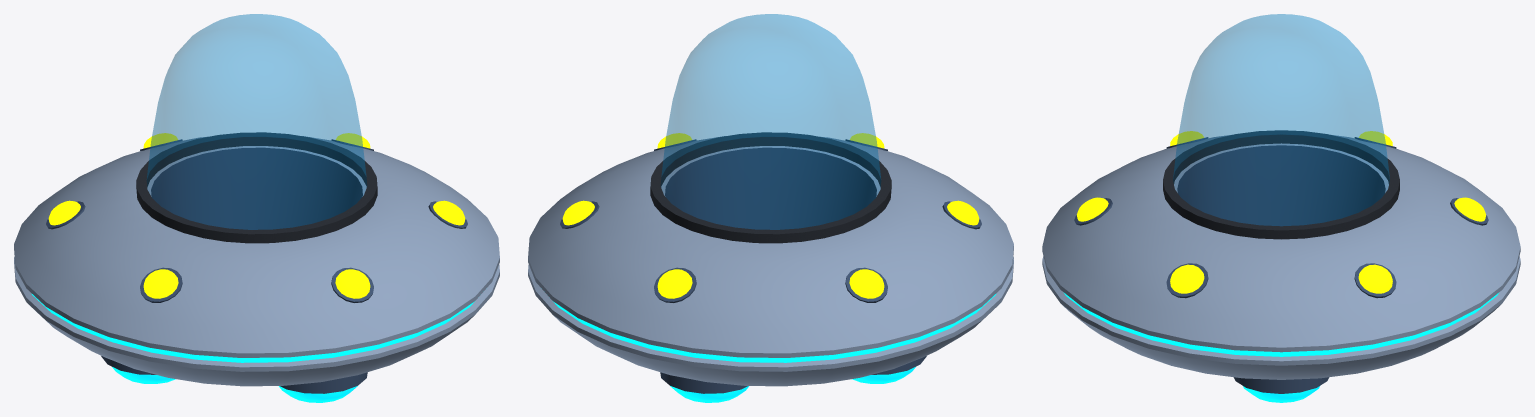
Rendered from ufo_low_ploy_pbr_textured_game_ready.glb.
The picture shows the model from 3 angles, left to right: view 1: azimuth 30°, elevation 25°; view 2: azimuth 150°, elevation 25°; view 3: azimuth 270°, elevation 25°; orthographic projection.
Parts seen in each view (by area): view 1: Main Body, Cockpit Glass, Cab Seal Ring, Small Lamp, Circular Light, Small Lamp Shell, Engine Shell, Engine Core; view 2: Main Body, Cockpit Glass, Cab Seal Ring, Small Lamp, Circular Light, Small Lamp Shell, Engine Shell, Engine Core; view 3: Main Body, Cockpit Glass, Cab Seal Ring, Small Lamp, Circular Light, Small Lamp Shell, Engine Shell, Engine Core.
Boxes of the visible parts, <box> form: Main Body: <box>14,136,499,386</box>; Cockpit Glass: <box>147,14,366,229</box>; Cab Seal Ring: <box>136,132,377,243</box>; Small Lamp: <box>48,133,465,298</box>; Circular Light: <box>31,293,474,362</box>; Small Lamp Shell: <box>46,139,467,302</box>; Engine Shell: <box>101,356,367,393</box>; Engine Core: <box>112,367,357,402</box>; Main Body: <box>528,136,1013,386</box>; Cockpit Glass: <box>661,14,880,229</box>; Cab Seal Ring: <box>650,132,891,243</box>; Small Lamp: <box>562,133,979,298</box>; Circular Light: <box>553,293,996,362</box>; Small Lamp Shell: <box>560,139,981,302</box>; Engine Shell: <box>660,356,926,393</box>; Engine Core: <box>670,367,915,402</box>; Main Body: <box>1042,135,1520,379</box>; Cockpit Glass: <box>1173,14,1389,225</box>; Cab Seal Ring: <box>1163,130,1399,239</box>; Small Lamp: <box>1077,131,1485,293</box>; Circular Light: <box>1063,292,1499,356</box>; Small Lamp Shell: <box>1074,137,1488,298</box>; Engine Shell: <box>1234,377,1328,393</box>; Engine Core: <box>1243,386,1319,402</box>.
Size of the model in its own units: 11.76 by 8.67 by 11.76.
Materials: 2 (2 with a texture image).
